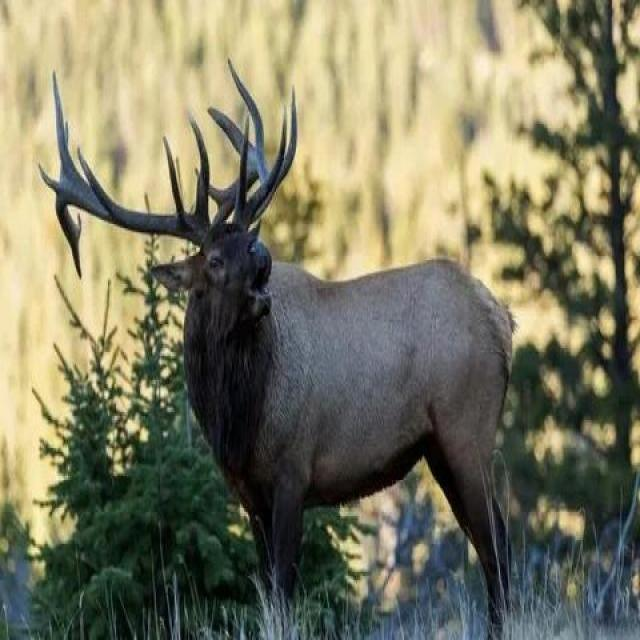deer: (110, 93, 534, 576)
